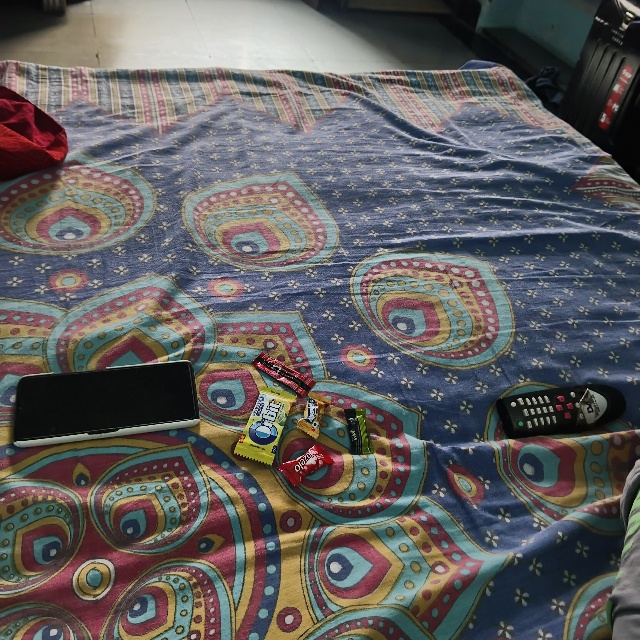Alpenlibe Creamfills: (308, 388, 334, 432)
Mazelo: (276, 468, 326, 496)
Nescafe Coffee: (249, 365, 271, 429)
Orbit: (261, 381, 300, 461)
Pulse: (344, 408, 372, 455)
